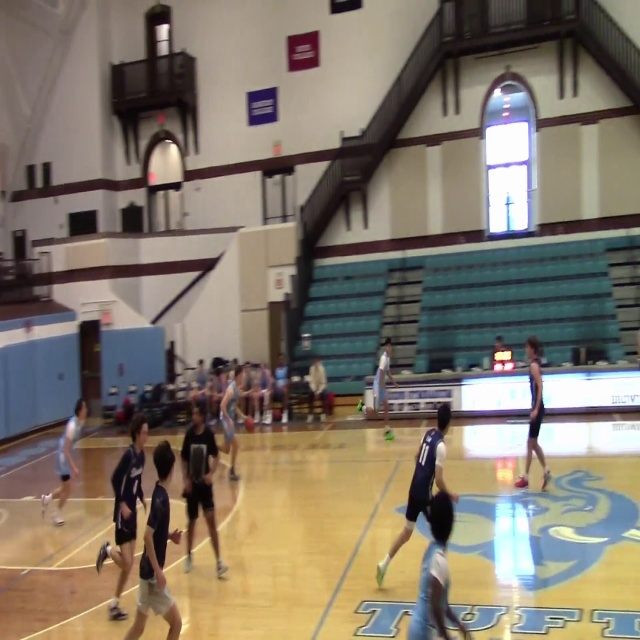Basketball: (244, 416, 254, 432)
